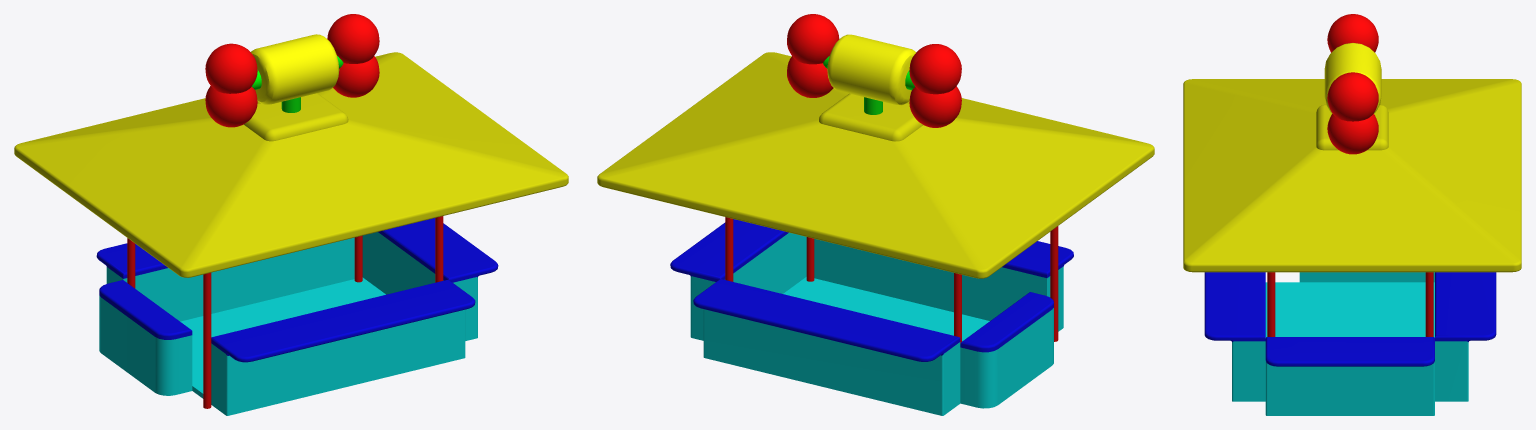
Rendered from Shop Final.fbx.
3 renders of one model, left to right at view 1: azimuth 30°, elevation 25°; view 2: azimuth 150°, elevation 25°; view 3: azimuth 270°, elevation 25°, orthographic. The views are drawn at different scales.
Parts seen in each view (by area): view 1: Shop; view 2: Shop; view 3: Shop.
Part boxes in pixels (box(x1,y1,x2,y2)): Shop: box(14, 14, 568, 415); Shop: box(597, 14, 1154, 415); Shop: box(1183, 14, 1521, 415).
Size of the model in its own units: 13 by 9.9 by 10.01.
